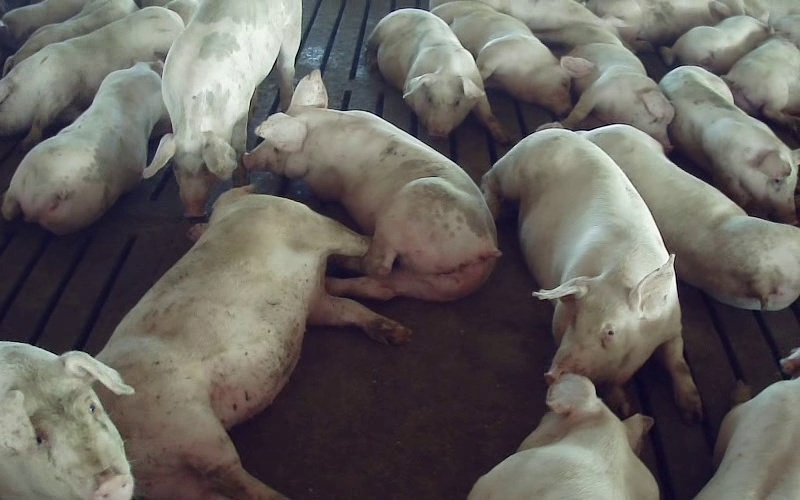pig: (482, 128, 701, 419), (582, 124, 799, 309), (2, 62, 166, 233), (0, 7, 183, 145), (468, 373, 658, 499), (660, 66, 799, 222), (367, 9, 508, 141), (432, 2, 592, 115), (537, 24, 673, 147), (695, 348, 799, 499), (723, 37, 799, 129), (660, 15, 767, 74), (586, 0, 722, 45), (481, 0, 622, 33)
